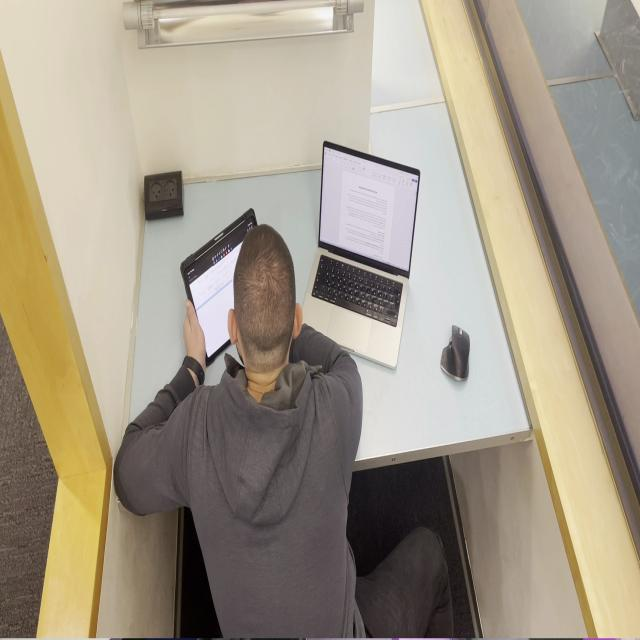bag: (180, 206, 258, 368)
ipad: (112, 223, 454, 639)
laptop: (301, 140, 420, 370)
mouse: (440, 324, 470, 382)
